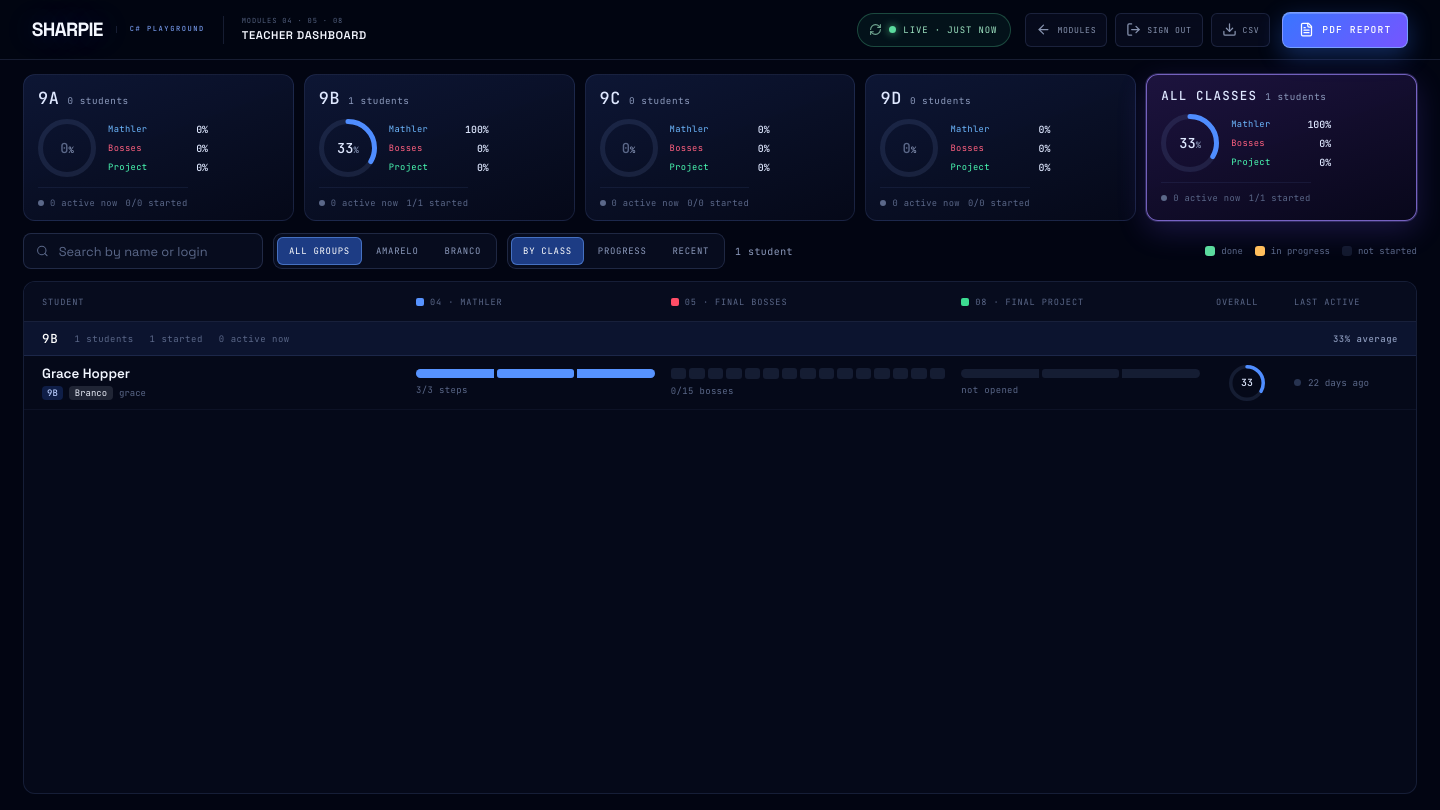
Teacher dashboard › tracks Mathler from the shared progress row when the dedicated tables are absent
The width and height of the screenshot is (1440, 810).
Click the text "Grace Hopper" at (86, 374), box [42,365,130,382]
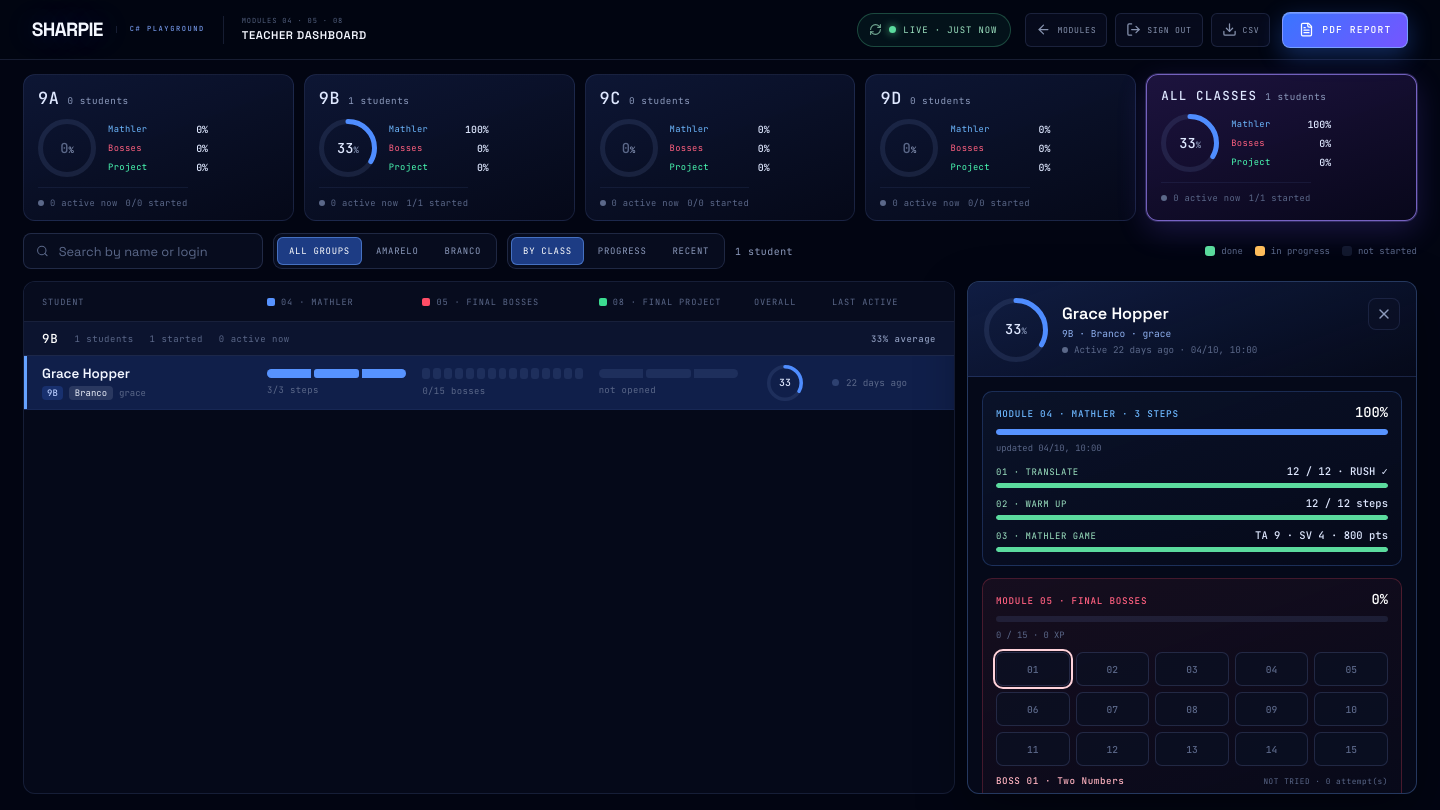
Expected: the text "12 / 12 · RUSH ✓" is shown, [1287,465,1388,479]
Expected: the text "TA 9 · SV 4 · 800 pts" is shown, [1255,529,1388,543]
